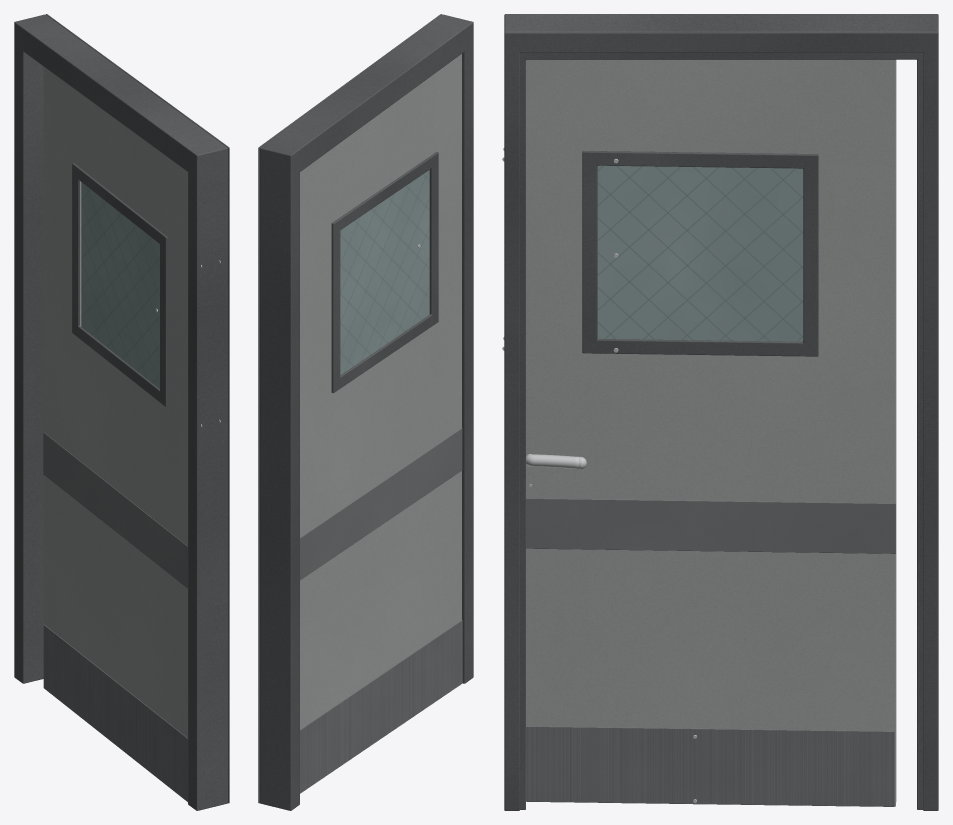
File: puerta con animacion arreglada.fbx
3 renders of one model, left to right at view 1: azimuth 30°, elevation 25°; view 2: azimuth 150°, elevation 25°; view 3: azimuth 270°, elevation 25°, orthographic. The views are drawn at different scales.
Visible parts, largest first — view 1: Hoja_Puerta, Marco_Jamba, Vidrio_Armado, Zapata_Patada, Banda_Proteccion, Bisel_Ventana_Dorso, Marco_Ala; view 2: Hoja_Puerta, Marco_Jamba, Vidrio_Armado, Zapata_Patada, Banda_Proteccion, Bisel_Ventana_Dorso, Marco_Ala; view 3: Hoja_Puerta, Vidrio_Armado, Marco_Ala, Zapata_Patada, Marco_Jamba, Banda_Proteccion, Bisel_Ventana_Frente.
Boxes of the visible parts, x1,y1,x2,y2 form: Hoja_Puerta: [43, 67, 187, 737]; Marco_Jamba: [14, 14, 227, 810]; Vidrio_Armado: [81, 182, 159, 388]; Zapata_Patada: [43, 624, 187, 801]; Banda_Proteccion: [43, 432, 187, 588]; Bisel_Ventana_Dorso: [72, 163, 167, 406]; Marco_Ala: [46, 14, 229, 803]; Hoja_Puerta: [300, 54, 461, 729]; Marco_Jamba: [260, 14, 473, 810]; Vidrio_Armado: [340, 170, 429, 375]; Zapata_Patada: [300, 620, 462, 793]; Banda_Proteccion: [300, 428, 462, 580]; Bisel_Ventana_Dorso: [331, 152, 438, 393]; Marco_Ala: [258, 14, 441, 803]; Hoja_Puerta: [526, 59, 896, 806]; Vidrio_Armado: [597, 165, 803, 341]; Marco_Ala: [504, 32, 938, 810]; Zapata_Patada: [526, 726, 894, 806]; Marco_Jamba: [504, 14, 938, 809]; Banda_Proteccion: [526, 498, 895, 553]; Bisel_Ventana_Frente: [582, 151, 818, 356].
Size of the model in its own units: 44.4 by 841 by 427.
